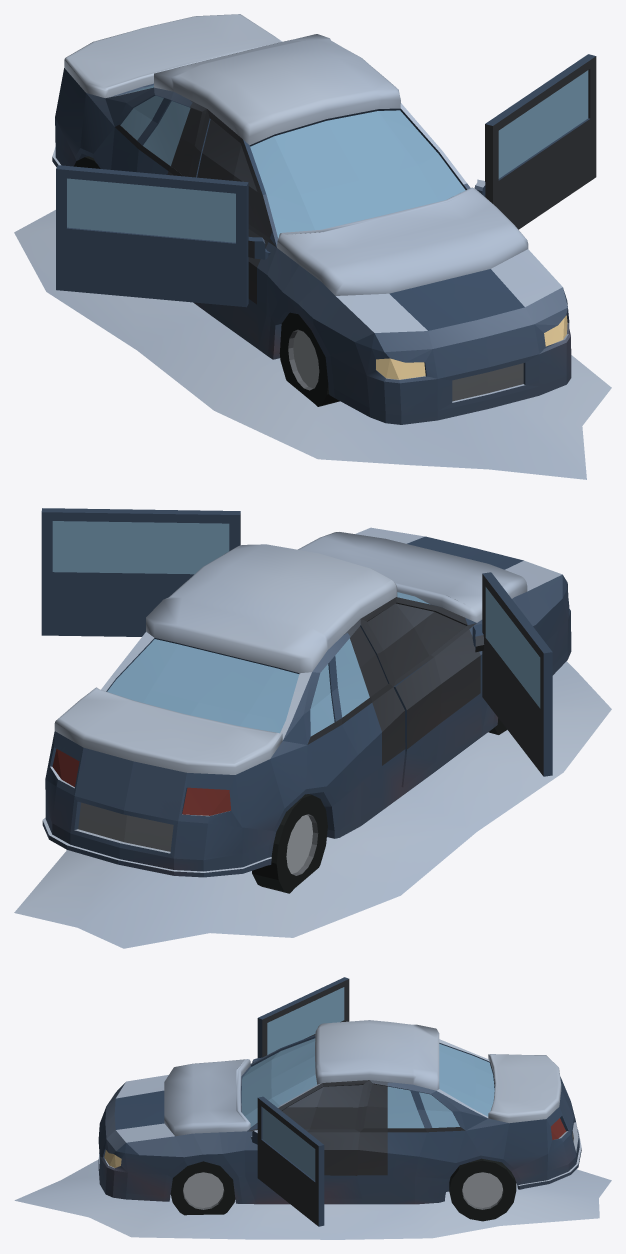
The model's file is sedan_doors.glb.
The picture shows the model from 3 angles, top to bottom: view 1: azimuth 30°, elevation 25°; view 2: azimuth 150°, elevation 25°; view 3: azimuth 270°, elevation 25°; orthographic projection. The views are drawn at different scales.
Visible parts, largest first — view 1: Body, Glass; view 2: Body, Glass; view 3: Body, Glass.
Boxes of the visible parts, x1,y1,x2,y2 form: Body: (14,14,611,479); Glass: (67,70,588,242); Body: (14,508,611,948); Glass: (52,521,540,736); Body: (14,977,611,1239); Glass: (241,987,494,1180).
Bounding box in the file's own units: 3.85 × 1.58 × 5.76.
